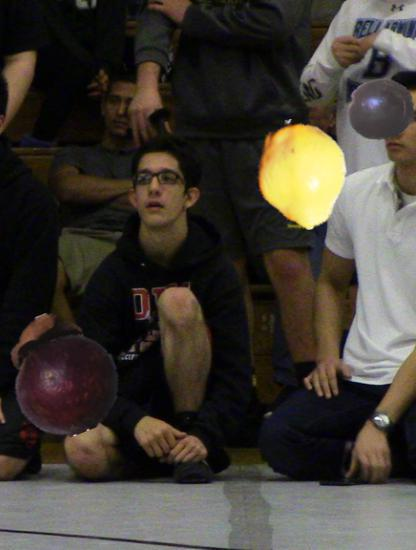Mangostan: (0, 311, 125, 436)
Passion: (346, 76, 416, 146)
Quince: (246, 118, 359, 231)
